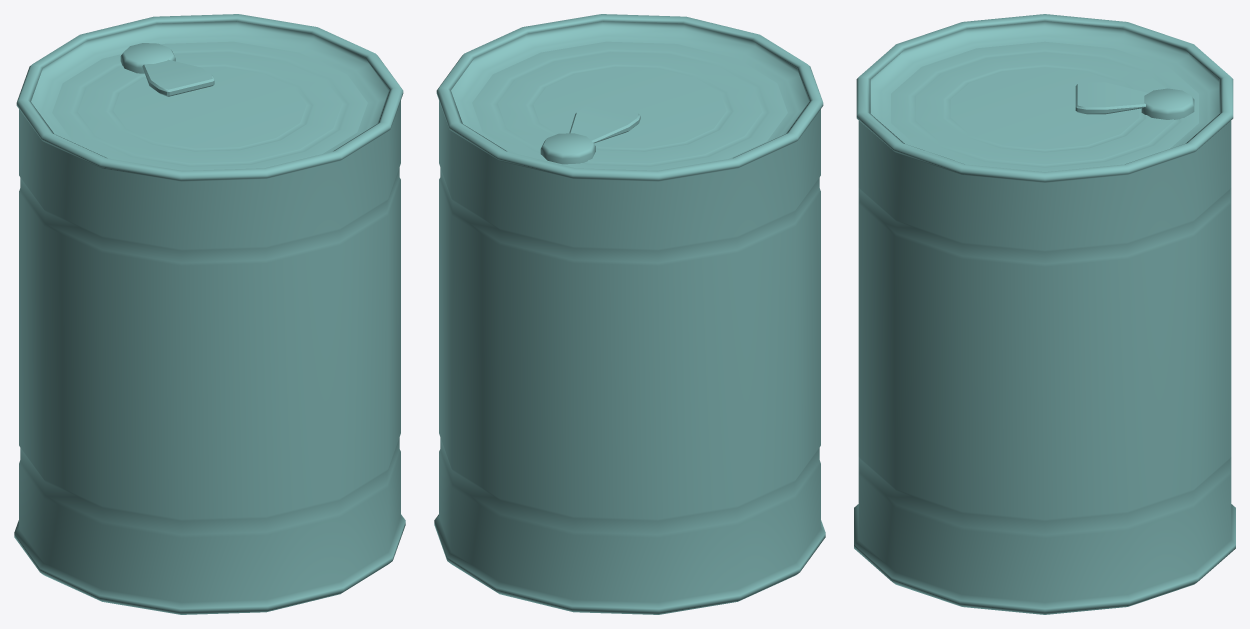
File: canned tomatoes.fbx
The picture shows the model from 3 angles, left to right: view 1: azimuth 30°, elevation 25°; view 2: azimuth 150°, elevation 25°; view 3: azimuth 270°, elevation 25°; orthographic projection.
Parts seen in each view (by area): view 1: pCube231; view 2: pCube231; view 3: pCube231.
Part boxes in pixels (x1,y1,x2,y2): pCube231: [14, 14, 405, 614]; pCube231: [434, 14, 825, 614]; pCube231: [854, 14, 1235, 614].
Bounding box in the file's own units: 0.1691 × 0.2096 × 0.1649.
